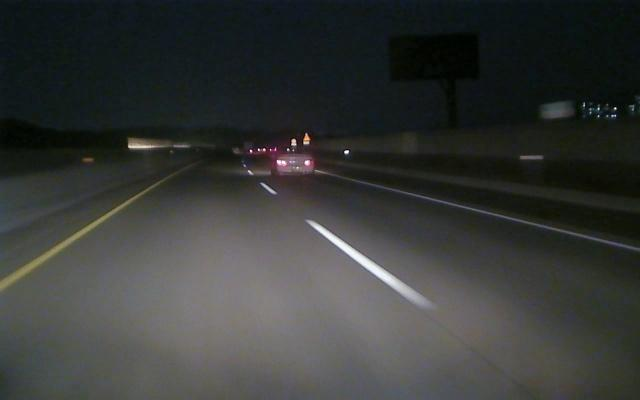lane: (329, 173, 638, 252), (260, 184, 436, 310), (2, 192, 142, 291)
